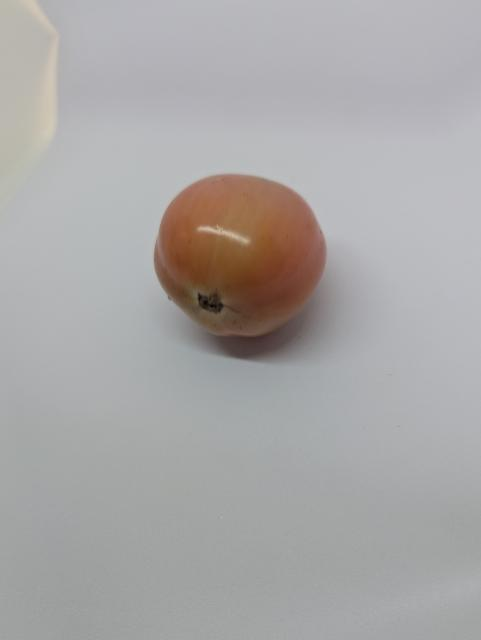turning: (148, 177, 339, 348)
